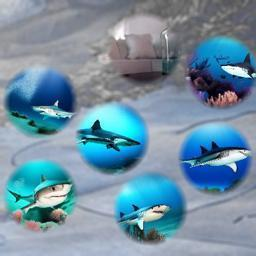not an animal: (118, 21, 176, 78)
